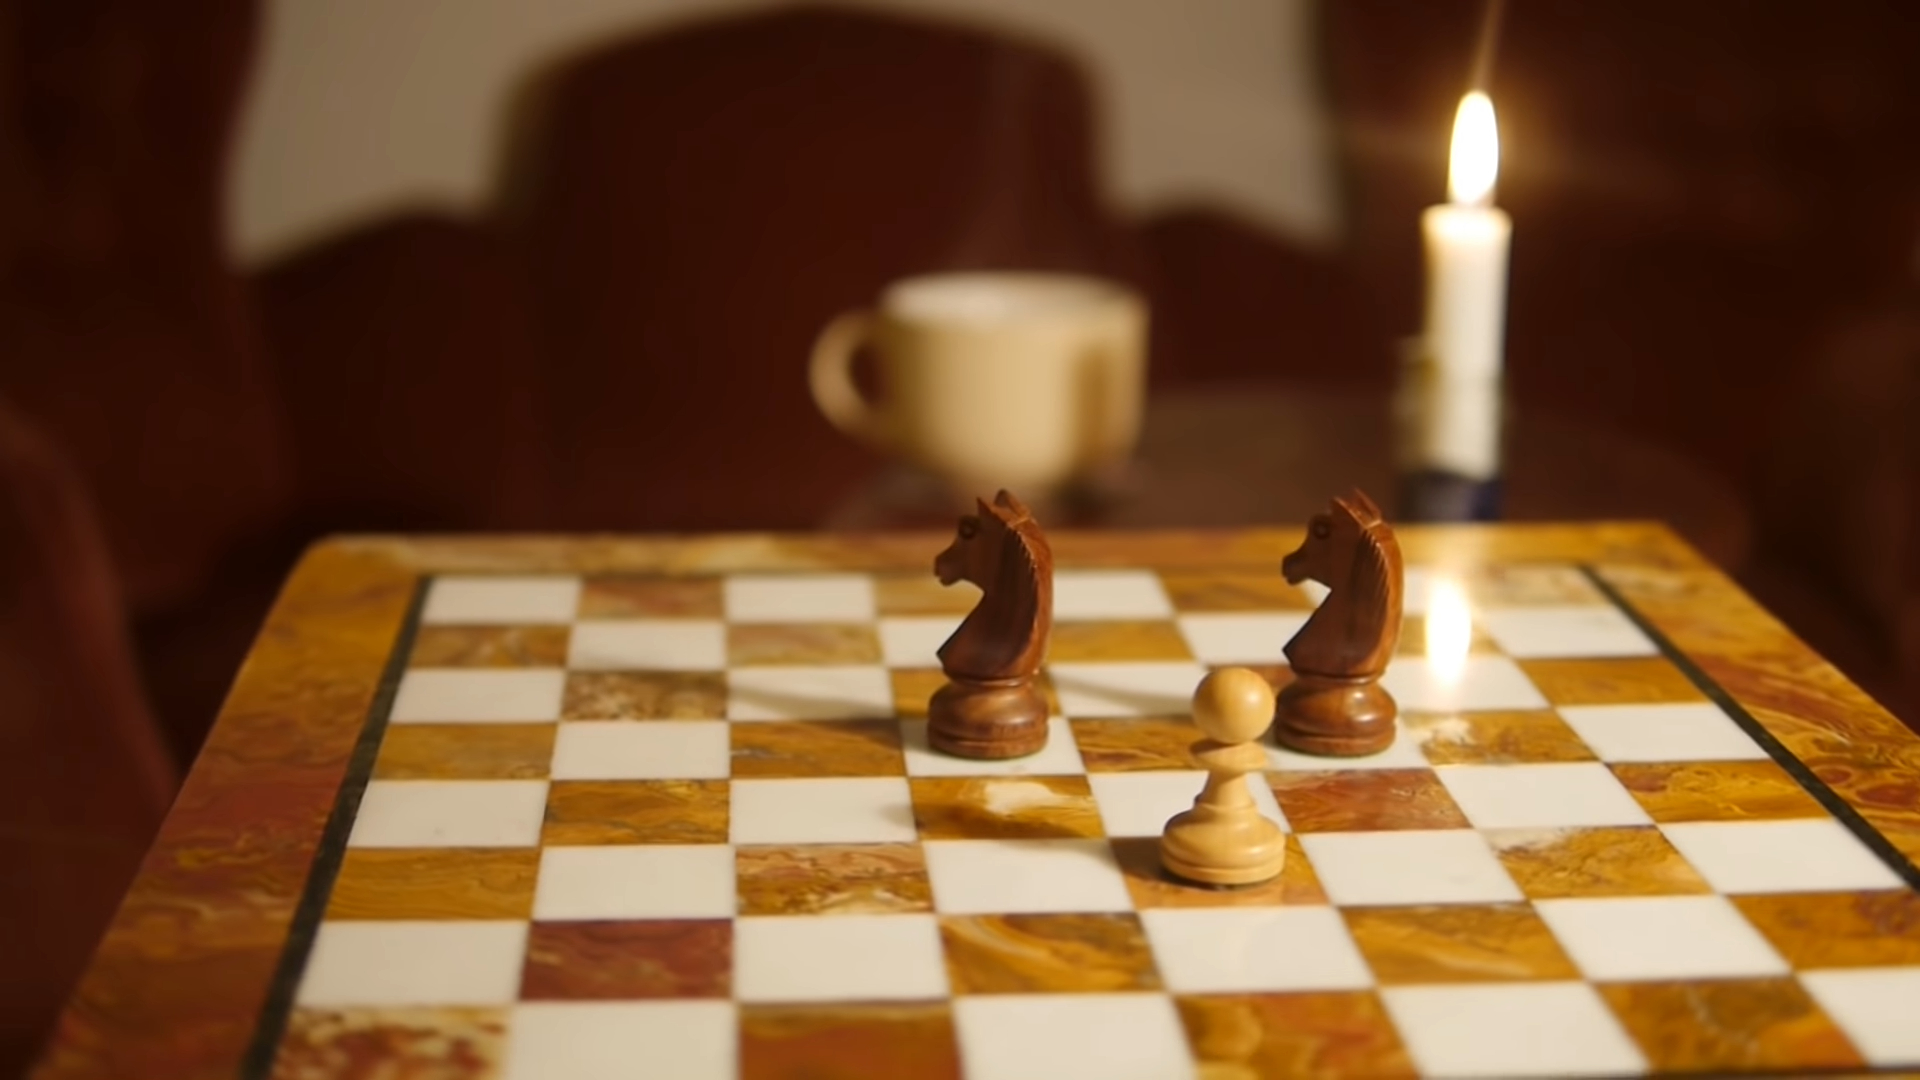BN: (928, 483, 1058, 758), (1287, 492, 1408, 752)
WP: (1164, 651, 1295, 876)
